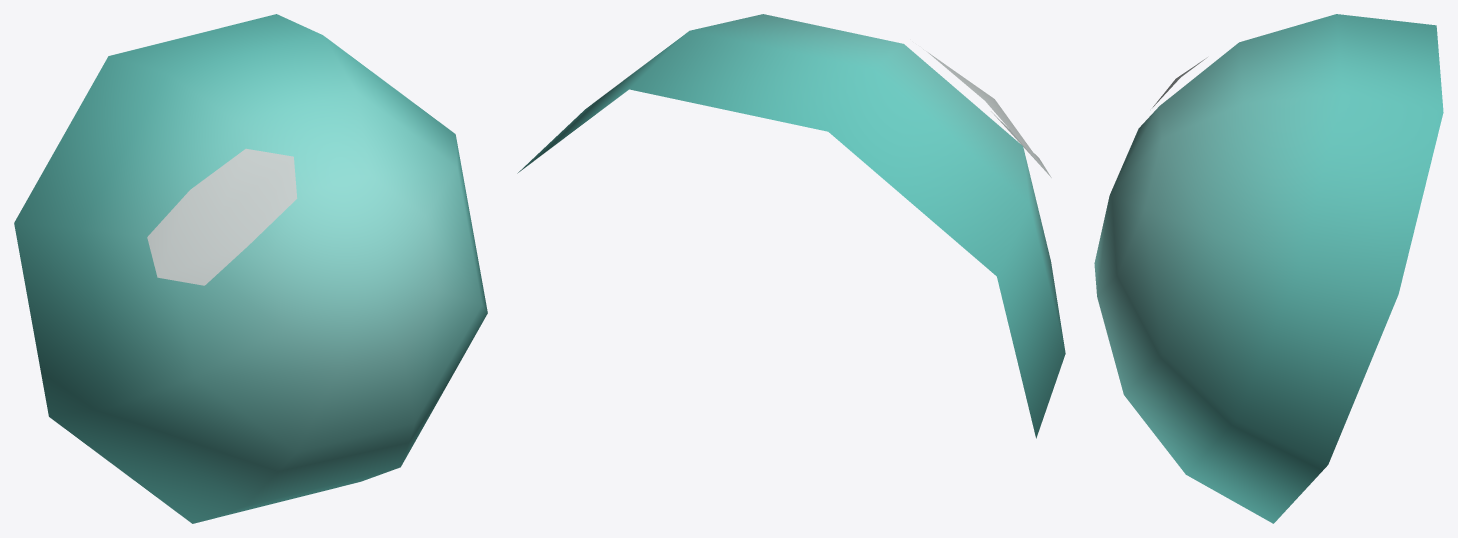
File: herbertLightGreen.glb
3 renders of one model, left to right at view 1: azimuth 30°, elevation 25°; view 2: azimuth 150°, elevation 25°; view 3: azimuth 270°, elevation 25°, orthographic. The views are drawn at different scales.
Visible parts, largest first — view 1: herbertLightGreen; view 2: herbertLightGreen; view 3: herbertLightGreen.
Part boxes in pixels (x1,y1,x2,y2): herbertLightGreen: (14, 14, 487, 523); herbertLightGreen: (517, 14, 1065, 438); herbertLightGreen: (1094, 14, 1443, 523).
Size of the model in its own units: 0.2884 by 0.2823 by 0.2077.
